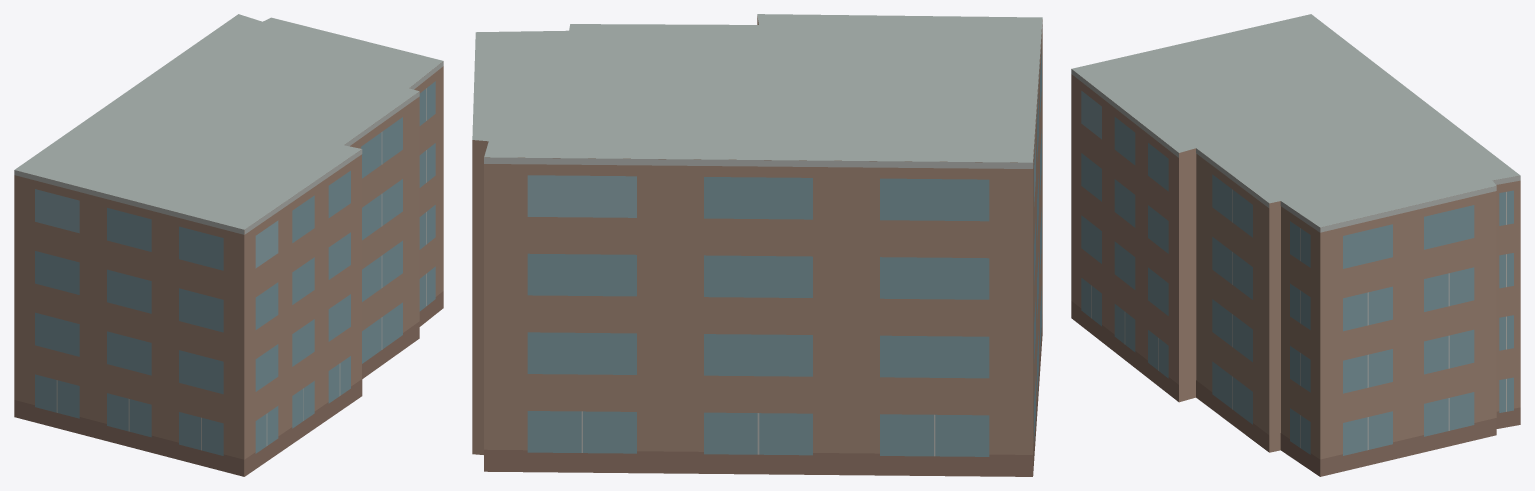
Rendered from survey-upis-32802081.glb.
3 renders of one model, left to right at view 1: azimuth 30°, elevation 25°; view 2: azimuth 150°, elevation 25°; view 3: azimuth 270°, elevation 25°, orthographic. The views are drawn at different scales.
Parts seen in each view (by area): view 1: survey-upis-32802081.tmp; view 2: survey-upis-32802081.tmp; view 3: survey-upis-32802081.tmp.
Boxes of the visible parts, box(x1,y1,x2,y2) form: survey-upis-32802081.tmp: box(14, 14, 443, 476); survey-upis-32802081.tmp: box(472, 14, 1042, 476); survey-upis-32802081.tmp: box(1071, 14, 1520, 476).
Size of the model in its own units: 21.68 by 11.8 by 19.27.
